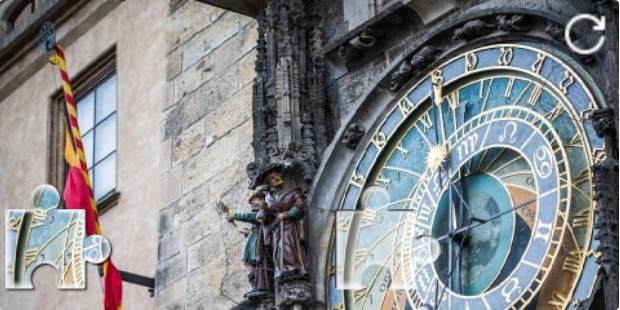target: (336, 187, 440, 289)
